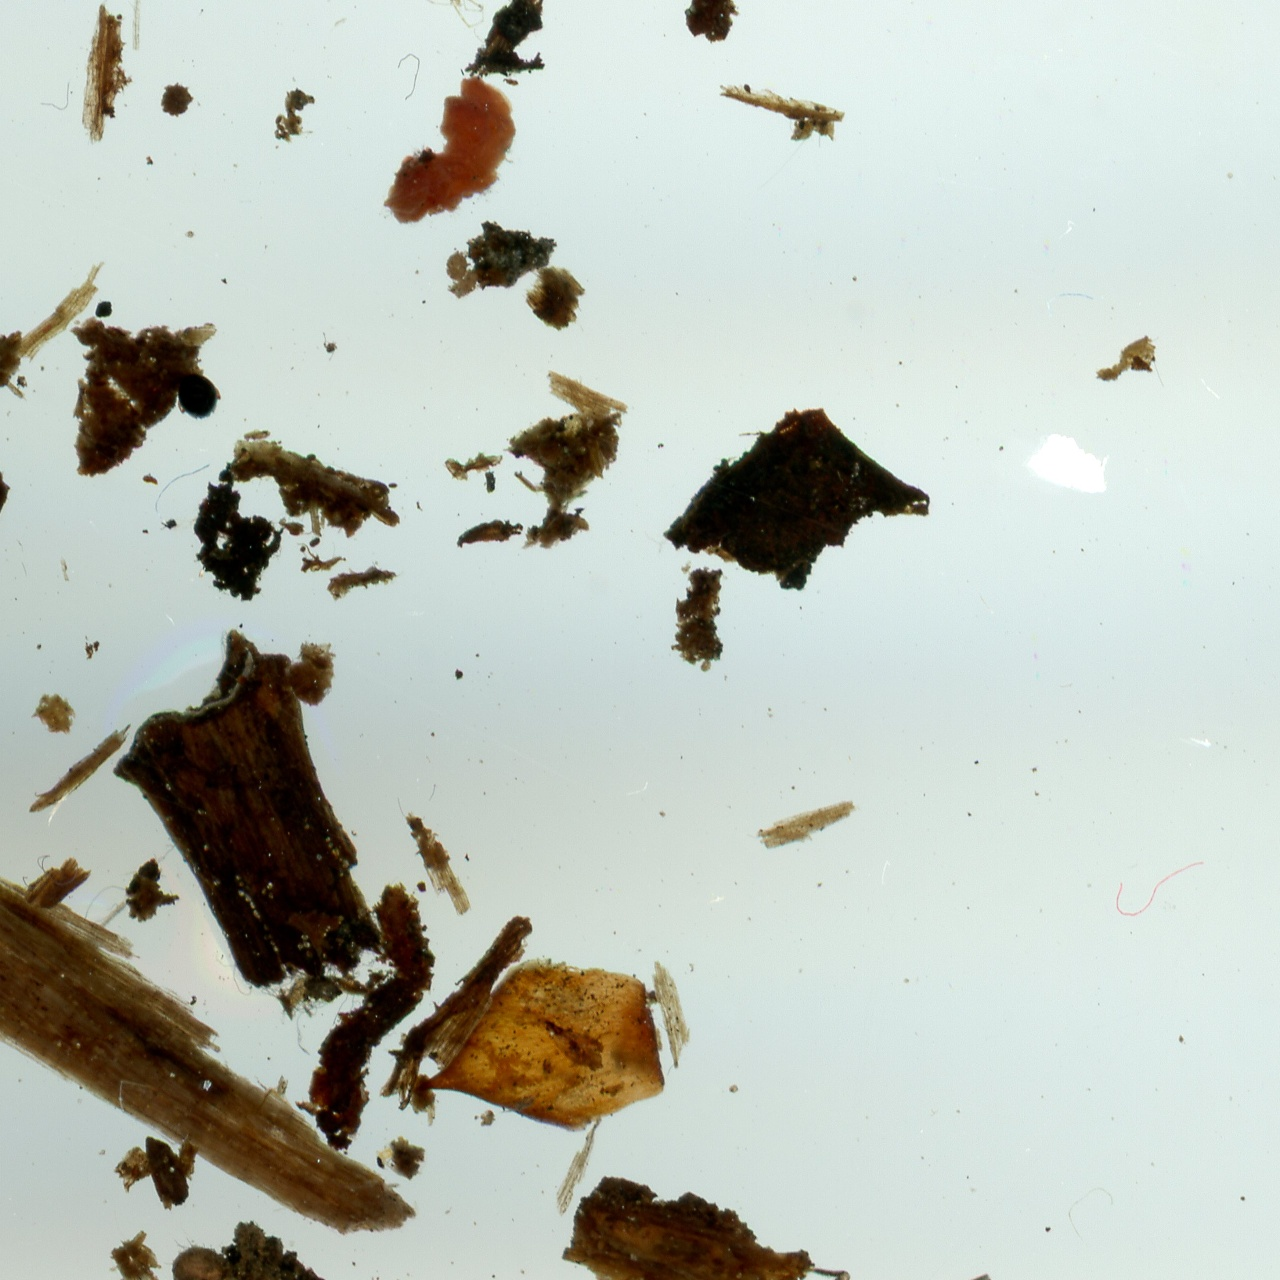arthropod: (639, 1146, 1046, 1280), (161, 359, 232, 433), (410, 0, 497, 45)
